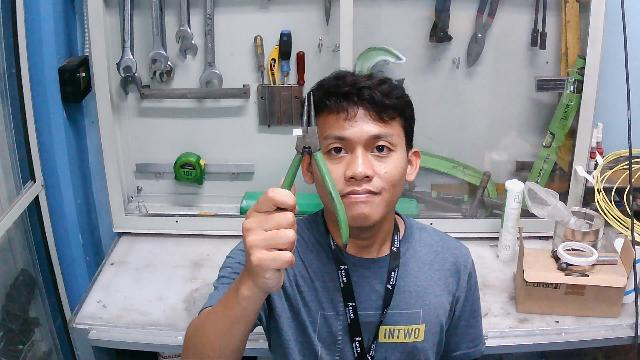tang_cucut_lancip_2: (239, 89, 354, 268)
